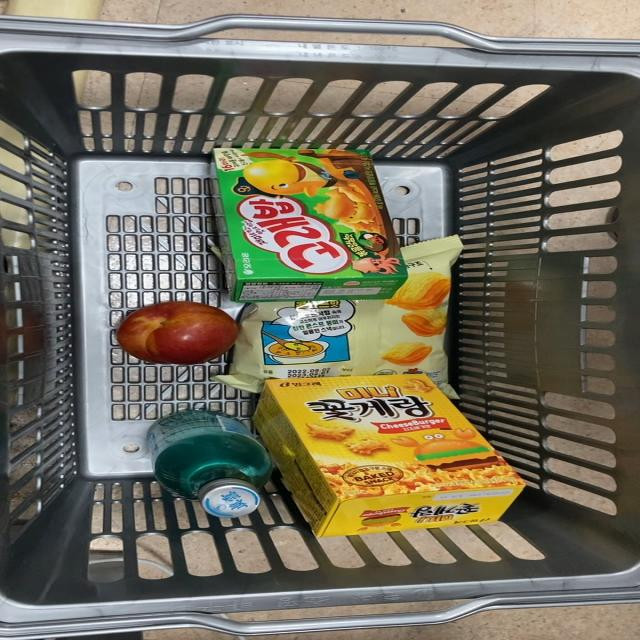ggobukchip: (244, 292, 462, 384)
goraebob: (208, 132, 408, 293)
jinro: (140, 406, 288, 529)
minicrab: (262, 371, 533, 532)
plum: (113, 294, 244, 371)
